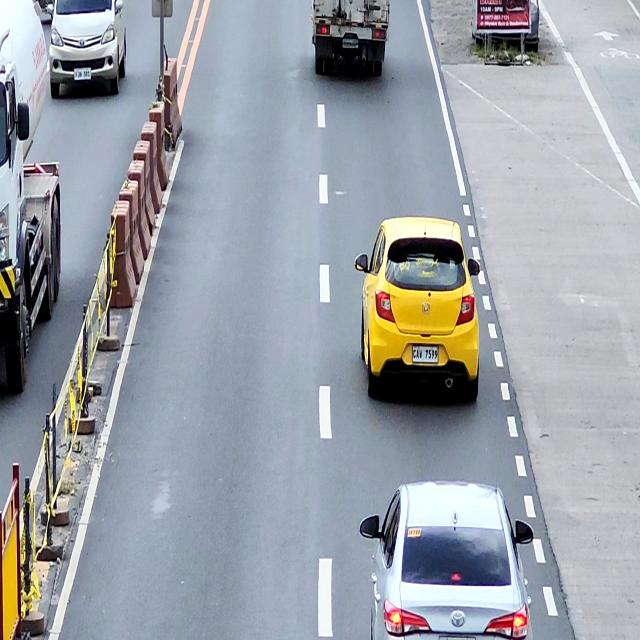Car: (360, 482, 534, 640), (356, 216, 480, 405), (46, 0, 127, 98)
License-Plate: (412, 346, 438, 362), (74, 68, 91, 80), (343, 39, 359, 49)
Truck: (0, 0, 62, 396), (310, 0, 391, 83)
